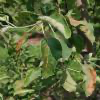Apple rust leaf: (66, 13, 98, 46), (38, 35, 60, 79), (48, 30, 76, 61), (9, 29, 30, 69), (81, 62, 96, 99)
